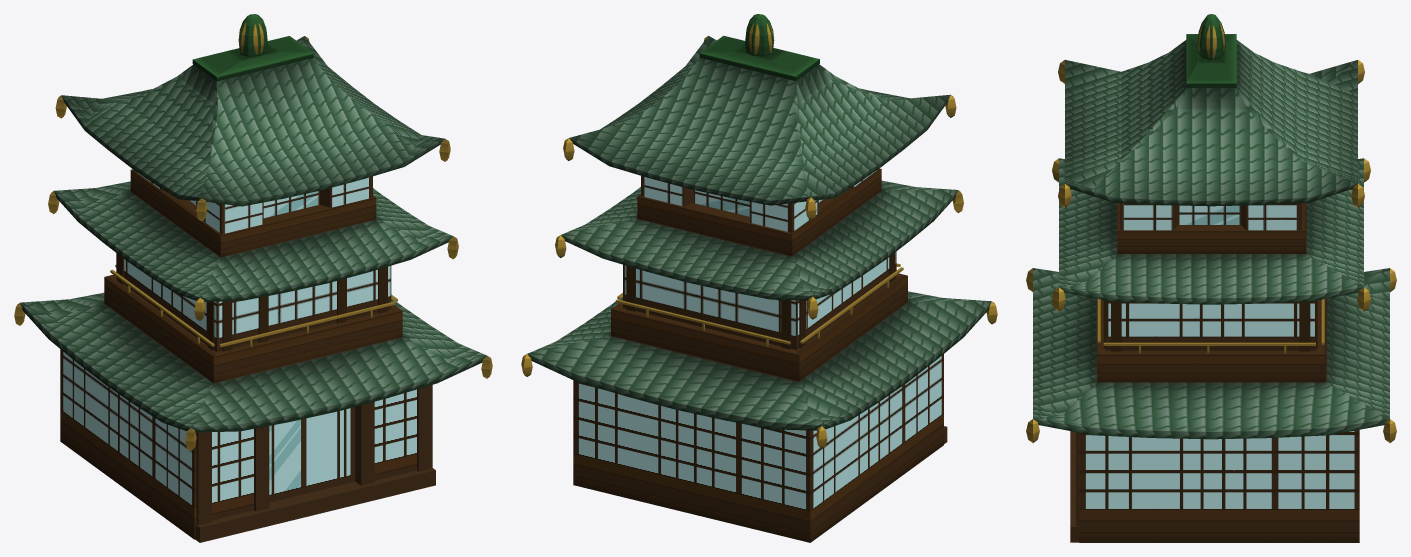
File: japanese_house_02.fbx
The picture shows the model from 3 angles, left to right: view 1: azimuth 30°, elevation 25°; view 2: azimuth 150°, elevation 25°; view 3: azimuth 270°, elevation 25°; orthographic projection. The views are drawn at different scales.
Parts seen in each view (by area): view 1: Japanese__h02; view 2: Japanese__h02; view 3: Japanese__h02.
Part boxes in pixels (x1,y1,x2,y2): Japanese__h02: [14, 14, 492, 542]; Japanese__h02: [521, 14, 997, 542]; Japanese__h02: [1026, 14, 1396, 542].
Size of the model in its own units: 9.04 by 12.64 by 9.04.
